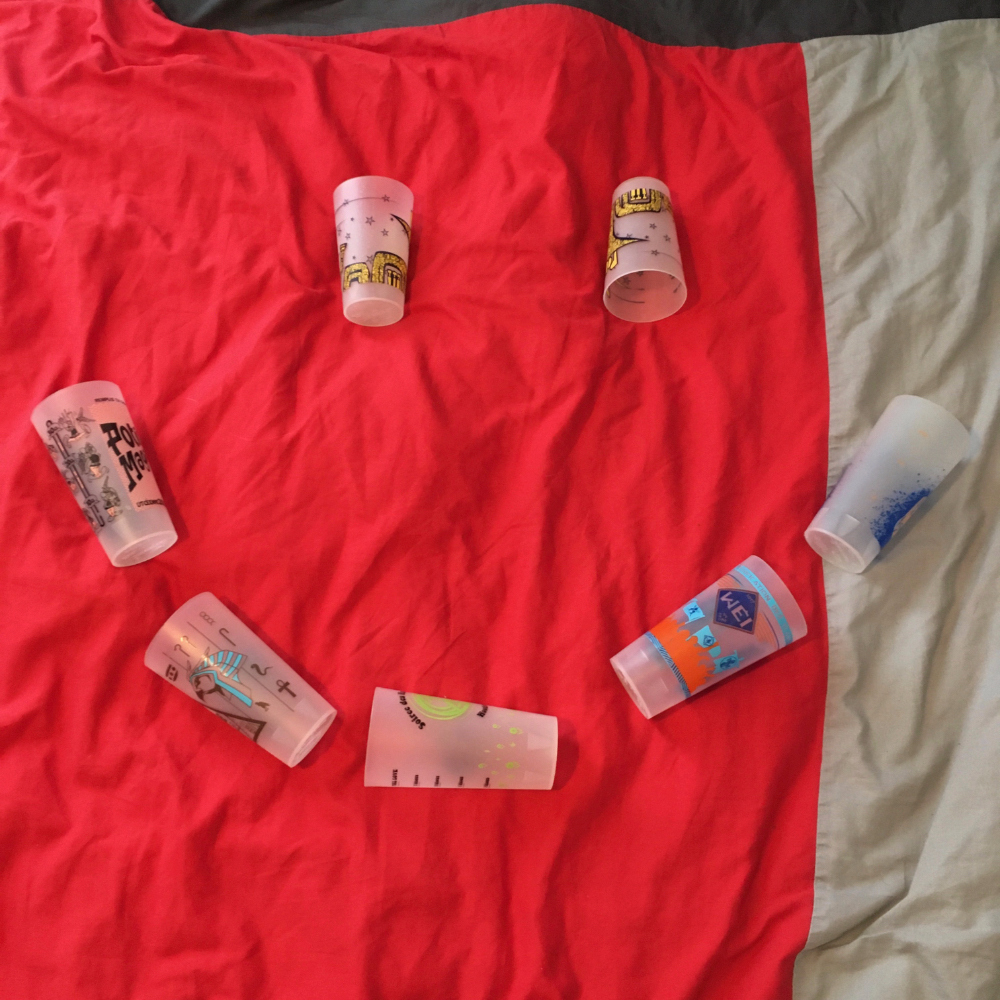ecocup: (143, 589, 337, 769), (610, 555, 808, 721), (805, 394, 971, 572), (30, 380, 178, 569), (364, 686, 558, 792), (603, 176, 687, 323), (333, 175, 414, 327)
